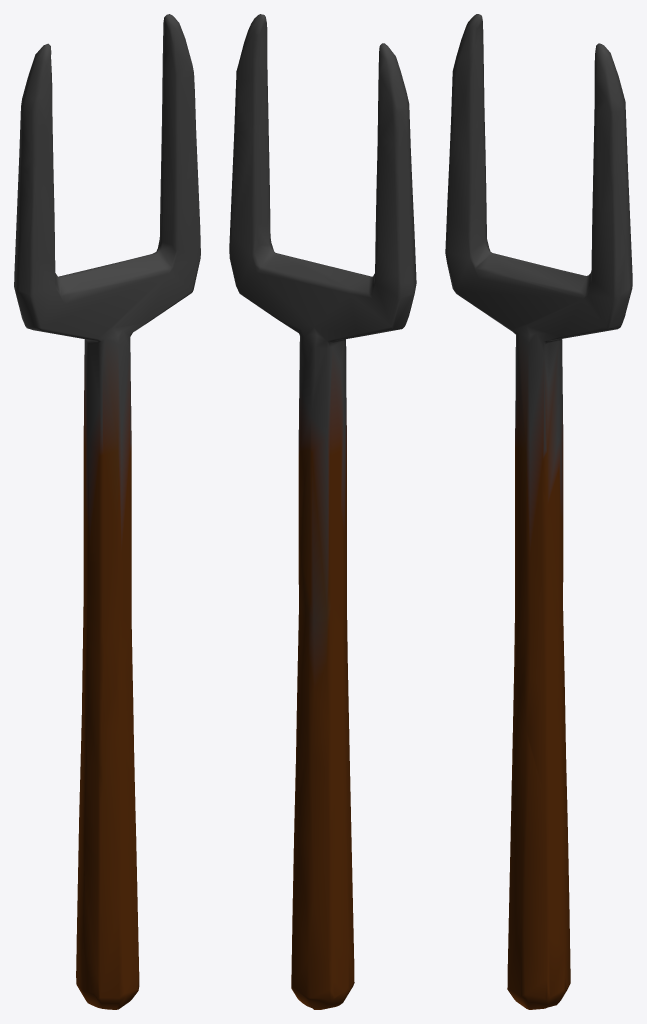
Rendered from gen3d-pitchfork-lod1.glb.
3 views of the same model, side by side, from view 1: azimuth 30°, elevation 25°; view 2: azimuth 150°, elevation 25°; view 3: azimuth 330°, elevation 25° (orthographic).
Visible parts, largest first — view 1: part_0; view 2: part_0; view 3: part_0.
Boxes of the visible parts, bbox=[...] form: part_0: bbox=[14, 14, 200, 1009]; part_0: bbox=[229, 14, 416, 1009]; part_0: bbox=[445, 14, 632, 1009].
Bounding box in the file's own units: 0.1955 × 0.9996 × 0.0567.
